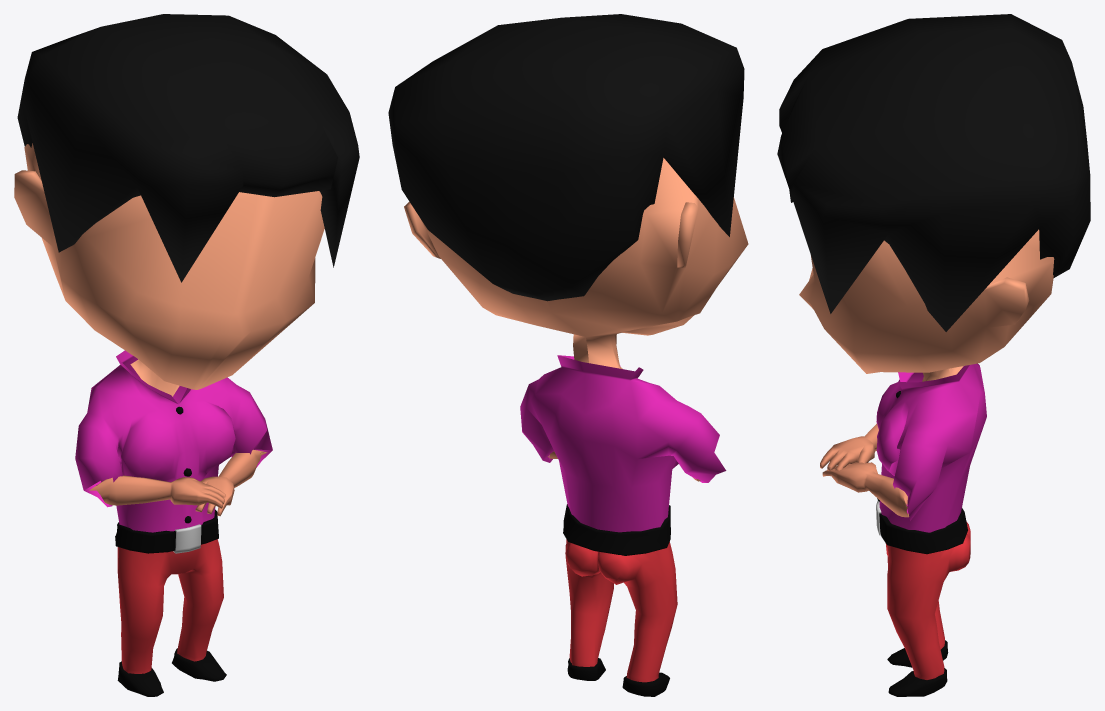
File: Female NPC - pink shirt,red pants.FBX
3 renders of one model, left to right at view 1: azimuth 30°, elevation 25°; view 2: azimuth 150°, elevation 25°; view 3: azimuth 270°, elevation 25°, orthographic. The views are drawn at different scales.
Parts seen in each view (by area): view 1: Group005; view 2: Group005; view 3: Group005.
Part boxes in pixels (box(x1,y1,x2,y2)): Group005: box(14, 14, 359, 696); Group005: box(388, 14, 748, 696); Group005: box(777, 14, 1090, 696).
Size of the model in its own units: 87.42 by 82.81 by 185.
